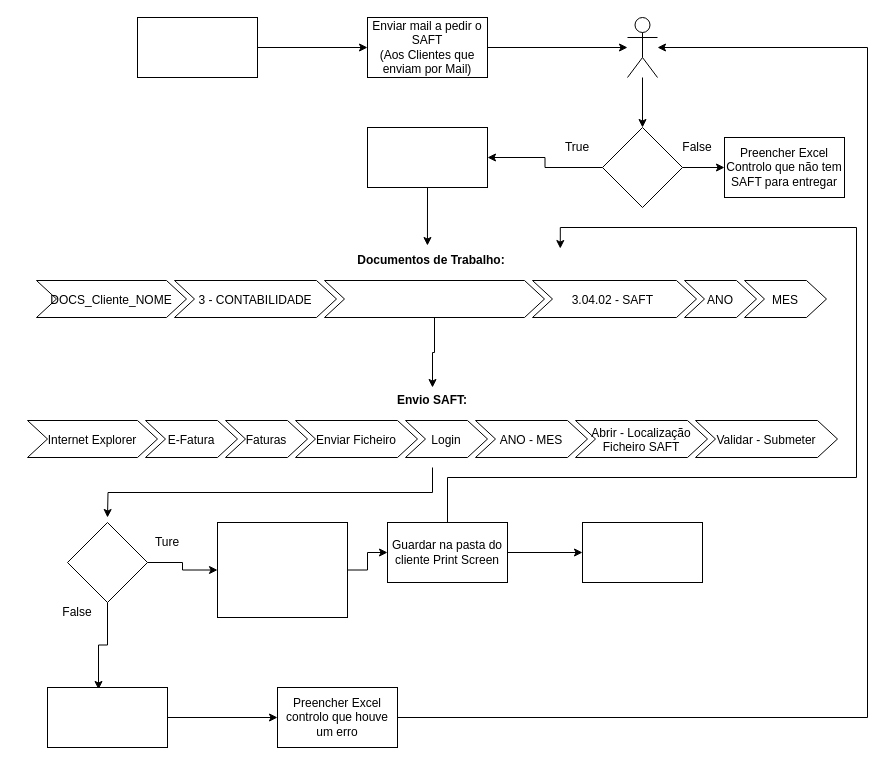
Some shapes in this 893 by 765 pixel diagram are drawn without their labels. Here are the shapes that lost their labels. From the top down, the box of each, then its label:
(136, 16, 258, 78): Inicio 01-MES-ANO
(626, 16, 658, 78): Cliente
(366, 126, 488, 188): Extrair ficheiro SAFT e colocar na pasta de documentos de trabalho
(602, 126, 682, 208): Tem SAFT
(324, 280, 544, 318): 3.04 - VENDAS - COMISSÕES
(66, 522, 148, 602): Envio com Sucesso
(216, 522, 348, 618): Tirar Print Screen do Envio com: Nº Faturas: Total Créditos: Total Débitos:
(582, 522, 702, 582): Preencher Excel Controlo que Foi Submetido
(46, 686, 168, 748): Tirar Print Screen do erro e enviar por mail para o cliente
